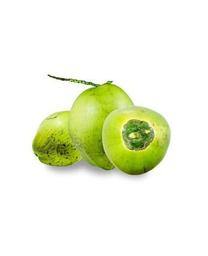coconut: (68, 83, 135, 171), (102, 106, 170, 176), (32, 110, 86, 167)
